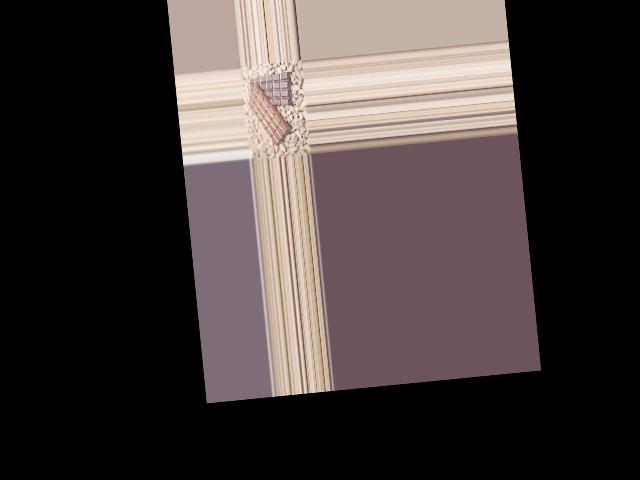chocolate: (246, 67, 295, 109)
